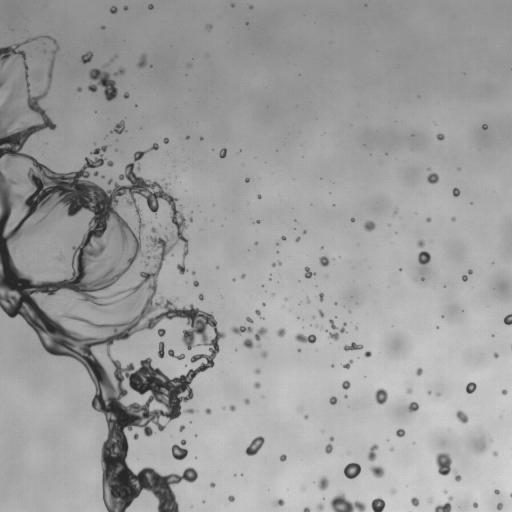droplet: (244, 436, 265, 456), (342, 462, 362, 480), (434, 495, 453, 511), (170, 444, 188, 460), (109, 120, 127, 134), (367, 464, 385, 478), (374, 388, 388, 405), (370, 497, 386, 511), (474, 437, 487, 453), (418, 250, 431, 265), (317, 475, 329, 491), (455, 409, 468, 423), (136, 53, 147, 68), (426, 172, 439, 184), (304, 266, 316, 279), (81, 51, 93, 63), (406, 401, 419, 412), (363, 220, 375, 231), (465, 382, 476, 394), (340, 359, 353, 369), (125, 61, 136, 72), (104, 64, 115, 75), (7, 72, 18, 83), (53, 163, 64, 174), (101, 181, 112, 192), (167, 185, 178, 196), (178, 205, 189, 216), (309, 260, 320, 271), (155, 273, 166, 284), (320, 300, 331, 311), (197, 301, 208, 312), (266, 325, 277, 336), (285, 327, 296, 338), (316, 331, 327, 342), (339, 333, 350, 344), (76, 364, 87, 375), (339, 369, 350, 380), (188, 378, 199, 389), (85, 384, 96, 395), (333, 386, 344, 397), (247, 388, 258, 399), (95, 411, 106, 422), (177, 412, 188, 423), (97, 429, 108, 440), (91, 448, 102, 459), (124, 456, 135, 467), (176, 459, 187, 470), (359, 459, 370, 470), (93, 461, 104, 472), (129, 462, 140, 473), (173, 463, 184, 474), (359, 466, 370, 477), (139, 488, 150, 499), (312, 488, 323, 499), (324, 488, 335, 499), (148, 495, 159, 506), (319, 255, 329, 266), (272, 498, 284, 507), (276, 327, 286, 337), (324, 443, 333, 454), (503, 313, 511, 325), (315, 292, 324, 302), (157, 328, 166, 338), (341, 380, 350, 390), (396, 427, 405, 437), (410, 496, 419, 506), (315, 502, 325, 511), (271, 259, 282, 267), (405, 385, 414, 394), (86, 60, 95, 69), (37, 99, 46, 108), (102, 150, 111, 159), (87, 174, 96, 183), (355, 218, 364, 227), (286, 231, 295, 240), (250, 322, 259, 331), (25, 326, 34, 335), (250, 345, 259, 354), (347, 349, 356, 358), (255, 358, 264, 367), (234, 399, 243, 408), (179, 400, 188, 409), (172, 416, 181, 425), (134, 425, 143, 434), (486, 442, 495, 451), (372, 457, 381, 466), (157, 467, 166, 476), (169, 483, 178, 492), (345, 493, 354, 502), (130, 497, 139, 506), (452, 187, 460, 197), (109, 5, 117, 14), (417, 239, 425, 248), (415, 367, 423, 376), (329, 396, 337, 405), (219, 148, 226, 158), (323, 505, 334, 511), (260, 350, 268, 358), (253, 381, 261, 389), (296, 405, 304, 413), (318, 308, 324, 318), (436, 133, 444, 140), (245, 316, 253, 323), (227, 494, 234, 502), (496, 502, 503, 510), (112, 0, 123, 5), (0, 93, 5, 104), (0, 155, 5, 166), (0, 285, 5, 296), (205, 24, 212, 31), (364, 350, 371, 357), (243, 398, 250, 405), (229, 404, 236, 411), (204, 408, 211, 415), (279, 454, 286, 461), (116, 6, 123, 13), (8, 53, 15, 60), (145, 57, 152, 64), (108, 73, 115, 80), (97, 84, 104, 91), (82, 87, 89, 94), (116, 89, 123, 96), (43, 126, 50, 133), (28, 133, 35, 140), (190, 134, 197, 141), (157, 140, 164, 147), (88, 154, 95, 161), (127, 155, 134, 162), (25, 159, 32, 166), (73, 164, 80, 171), (96, 165, 103, 172), (119, 167, 126, 174), (3, 172, 10, 179), (123, 179, 130, 186), (366, 214, 373, 221), (370, 228, 377, 235), (294, 229, 301, 236), (362, 229, 369, 236), (318, 249, 325, 256), (164, 253, 171, 260), (276, 253, 283, 260), (193, 273, 200, 280), (194, 286, 201, 293), (175, 302, 182, 309), (249, 312, 256, 319), (323, 313, 330, 320), (213, 314, 220, 321), (334, 320, 341, 327), (323, 321, 330, 328), (251, 326, 258, 333), (302, 329, 309, 336), (241, 331, 248, 338), (247, 332, 254, 339), (216, 338, 223, 345), (296, 340, 303, 347), (357, 348, 364, 355), (49, 353, 56, 360), (55, 354, 62, 361), (63, 355, 70, 362), (195, 371, 202, 378), (253, 374, 260, 381), (378, 382, 385, 389), (369, 388, 376, 395), (385, 388, 392, 395), (386, 392, 393, 399), (336, 395, 343, 402), (369, 395, 376, 402), (407, 395, 414, 402), (385, 396, 392, 403), (462, 408, 469, 415), (453, 417, 460, 424), (147, 421, 154, 428), (179, 431, 186, 438), (243, 439, 250, 446), (438, 446, 445, 453), (363, 447, 370, 454), (484, 448, 491, 455), (145, 461, 152, 468), (432, 463, 439, 470), (382, 469, 389, 476), (447, 471, 454, 478), (313, 475, 320, 482), (312, 482, 319, 489), (494, 494, 501, 501), (174, 495, 181, 502), (417, 496, 424, 503), (438, 498, 445, 505), (428, 504, 435, 511), (163, 137, 169, 145), (253, 368, 261, 374), (390, 487, 396, 495), (302, 506, 311, 511), (275, 506, 284, 511), (364, 506, 373, 511), (410, 506, 419, 511), (193, 280, 199, 287), (198, 293, 204, 300), (179, 425, 185, 432), (180, 438, 186, 445), (492, 450, 498, 457), (427, 497, 433, 504), (76, 86, 82, 92), (123, 92, 129, 98), (481, 124, 487, 130), (294, 236, 300, 242), (467, 269, 473, 275), (240, 273, 246, 279), (461, 275, 467, 281), (493, 352, 499, 358), (501, 389, 507, 395), (494, 489, 500, 495), (472, 502, 478, 508), (133, 432, 138, 439), (186, 63, 192, 68), (93, 170, 98, 176), (257, 193, 262, 199), (302, 229, 307, 235), (270, 292, 276, 297), (302, 414, 308, 419), (389, 445, 394, 451), (300, 485, 305, 491), (283, 297, 290, 301), (507, 388, 511, 395), (124, 507, 131, 511), (309, 507, 316, 511), (351, 507, 358, 511), (449, 507, 456, 511), (470, 507, 477, 511), (148, 4, 153, 9), (350, 217, 355, 222), (426, 217, 431, 222), (329, 436, 334, 441), (210, 482, 215, 487), (143, 2, 148, 7), (108, 12, 113, 17), (112, 12, 117, 17), (30, 32, 35, 37), (51, 33, 56, 38), (16, 38, 21, 43), (56, 39, 61, 44), (56, 49, 61, 54), (108, 52, 113, 57), (17, 55, 22, 60), (135, 57, 140, 62), (53, 59, 58, 64), (78, 61, 83, 66), (144, 63, 149, 68), (19, 65, 24, 70), (99, 67, 104, 72), (123, 71, 128, 76), (51, 72, 56, 77), (113, 83, 118, 88), (72, 84, 77, 89), (6, 87, 11, 92), (86, 89, 91, 94), (46, 91, 51, 96), (111, 97, 116, 102), (44, 110, 49, 115), (51, 118, 56, 123), (114, 118, 119, 123), (110, 123, 115, 128), (54, 126, 59, 131), (438, 128, 443, 133), (443, 135, 448, 140), (147, 142, 152, 147), (95, 143, 100, 148), (220, 143, 225, 148), (89, 146, 94, 151), (105, 146, 110, 151), (138, 146, 143, 151), (19, 148, 24, 153), (32, 153, 37, 158), (138, 157, 143, 162), (37, 158, 42, 163), (102, 160, 107, 165), (85, 166, 90, 171), (132, 168, 137, 173), (1, 169, 6, 174), (425, 170, 430, 175), (135, 172, 140, 177), (104, 175, 109, 180), (422, 175, 427, 180), (437, 175, 442, 180), (164, 177, 169, 182), (158, 180, 163, 185), (427, 182, 432, 187), (457, 185, 462, 190), (447, 189, 452, 194), (171, 193, 176, 198), (174, 200, 179, 205), (174, 205, 179, 210), (388, 209, 393, 214), (396, 210, 401, 215), (450, 211, 455, 216), (183, 214, 188, 219), (430, 217, 435, 222), (421, 218, 426, 223), (178, 239, 183, 244), (412, 240, 417, 245), (274, 245, 279, 250), (421, 246, 426, 251), (184, 254, 189, 259), (326, 254, 331, 259), (413, 254, 418, 259), (429, 254, 434, 259), (161, 259, 166, 264), (328, 259, 333, 264), (266, 261, 271, 266), (425, 261, 430, 266), (160, 264, 165, 269), (274, 264, 279, 269), (322, 265, 327, 270), (270, 266, 275, 271), (309, 267, 314, 272), (471, 267, 476, 272), (158, 269, 163, 274), (235, 274, 240, 279), (300, 275, 305, 280), (263, 279, 268, 284), (188, 281, 193, 286), (155, 286, 160, 291), (314, 290, 319, 295), (301, 297, 306, 302), (280, 299, 285, 304), (258, 306, 263, 311), (260, 311, 265, 316), (314, 311, 319, 316), (15, 313, 20, 318), (500, 313, 505, 318), (310, 319, 315, 324), (245, 321, 250, 326), (235, 323, 240, 328), (274, 325, 279, 330), (343, 325, 348, 330), (216, 326, 221, 331), (330, 328, 335, 333), (338, 332, 343, 337), (259, 334, 264, 339), (329, 337, 334, 342), (35, 338, 40, 343), (251, 338, 256, 343), (354, 339, 359, 344), (304, 340, 309, 345), (312, 341, 317, 346), (38, 344, 43, 349), (242, 345, 247, 350), (496, 349, 501, 354), (370, 350, 375, 355), (488, 352, 493, 357), (266, 353, 271, 358), (257, 355, 262, 360), (367, 355, 372, 360), (212, 357, 217, 362), (251, 364, 256, 369), (412, 366, 417, 371), (205, 367, 210, 372), (421, 369, 426, 374), (343, 375, 348, 380), (338, 378, 343, 383), (258, 379, 263, 384), (249, 384, 254, 389), (259, 384, 264, 389), (337, 384, 342, 389), (382, 385, 387, 390), (425, 385, 430, 390), (401, 386, 406, 391), (411, 386, 416, 391), (254, 387, 259, 392), (461, 387, 466, 392), (191, 388, 196, 393), (343, 388, 348, 393), (471, 390, 476, 395), (430, 391, 435, 396), (467, 392, 472, 397), (242, 393, 247, 398), (326, 393, 331, 398), (499, 393, 504, 398), (503, 393, 508, 398), (249, 399, 254, 404), (86, 400, 91, 405), (231, 400, 236, 405), (335, 400, 340, 405), (405, 400, 410, 405), (417, 401, 422, 406), (206, 403, 211, 408), (378, 403, 383, 408), (225, 407, 230, 412), (210, 408, 215, 413), (200, 409, 205, 414), (302, 409, 307, 414), (230, 410, 235, 415), (411, 410, 416, 415), (204, 413, 209, 418), (298, 414, 303, 419), (399, 424, 404, 429), (403, 427, 408, 432), (391, 428, 396, 433), (253, 432, 258, 437), (260, 432, 265, 437), (394, 435, 399, 440), (400, 435, 405, 440), (325, 439, 330, 444), (330, 440, 335, 445), (375, 440, 380, 445), (368, 441, 373, 446), (386, 441, 391, 446), (261, 442, 266, 447), (178, 443, 183, 448), (320, 446, 325, 451), (494, 446, 499, 451), (256, 449, 261, 454), (280, 449, 285, 454), (277, 450, 282, 455), (167, 451, 172, 456), (497, 451, 502, 456), (248, 454, 253, 459), (489, 454, 494, 459), (275, 457, 280, 462), (174, 458, 179, 463), (347, 458, 352, 463), (352, 458, 357, 463), (341, 462, 346, 467), (449, 463, 454, 468), (359, 465, 364, 470), (194, 467, 199, 472), (457, 470, 462, 475), (177, 471, 182, 476), (196, 472, 201, 477), (340, 472, 345, 477), (357, 472, 362, 477), (438, 473, 443, 478), (460, 474, 465, 479), (343, 476, 348, 481), (194, 477, 199, 482), (180, 478, 185, 483), (314, 480, 319, 485), (454, 480, 459, 485), (205, 481, 210, 486), (97, 489, 102, 494), (446, 490, 451, 495), (231, 491, 236, 496), (276, 494, 281, 499), (371, 494, 376, 499), (382, 496, 387, 501), (223, 497, 228, 502), (282, 497, 287, 502), (228, 501, 233, 506), (407, 501, 412, 506), (492, 501, 497, 506), (276, 504, 281, 509), (177, 505, 182, 510), (191, 269, 195, 275), (435, 392, 441, 396), (146, 0, 153, 3), (247, 0, 254, 3), (0, 41, 3, 48), (0, 207, 3, 214), (230, 3, 235, 7), (123, 5, 127, 10), (248, 5, 253, 9), (100, 25, 105, 29), (185, 135, 190, 139), (245, 177, 249, 182), (451, 216, 455, 221), (420, 277, 425, 281), (280, 305, 285, 309), (354, 325, 358, 330), (427, 390, 431, 395), (319, 429, 324, 433), (443, 489, 447, 494), (298, 507, 303, 511), (254, 241, 258, 245), (215, 265, 219, 269), (297, 348, 301, 352), (330, 363, 334, 367), (344, 394, 348, 398), (426, 167, 431, 170), (100, 175, 105, 178), (160, 178, 165, 181), (262, 302, 265, 307), (508, 323, 511, 328), (102, 508, 107, 511), (381, 508, 386, 511), (493, 508, 498, 511), (499, 508, 504, 511), (245, 21, 248, 25), (43, 49, 46, 53), (417, 94, 420, 98), (200, 136, 203, 140), (114, 148, 118, 151), (384, 152, 388, 155), (387, 223, 391, 226), (398, 268, 402, 271), (268, 278, 272, 281), (334, 301, 337, 305), (312, 315, 315, 319), (296, 316, 300, 319), (221, 406, 225, 409), (386, 438, 390, 441), (230, 0, 235, 2), (0, 307, 2, 312), (149, 64, 152, 67), (134, 104, 137, 107), (94, 110, 97, 113), (115, 138, 118, 141), (93, 142, 96, 145), (457, 167, 460, 170), (470, 201, 473, 204), (190, 210, 193, 213), (158, 223, 161, 226), (320, 246, 323, 249), (276, 250, 279, 253), (269, 273, 272, 276), (325, 274, 328, 277), (232, 278, 235, 281), (261, 284, 264, 287), (314, 284, 317, 287), (348, 310, 351, 313), (334, 315, 337, 318), (441, 315, 444, 318), (309, 323, 312, 326), (436, 326, 439, 329), (491, 334, 494, 337), (261, 395, 264, 398), (194, 434, 197, 437), (412, 441, 415, 444), (194, 456, 197, 459), (233, 473, 236, 476), (240, 473, 243, 476), (322, 497, 325, 500), (202, 500, 205, 503), (190, 505, 193, 508), (124, 2, 127, 5), (152, 3, 155, 6), (245, 4, 248, 7), (127, 6, 130, 9), (229, 6, 232, 9), (232, 6, 235, 9), (150, 8, 153, 11), (247, 8, 250, 11), (124, 9, 127, 12), (107, 10, 110, 13), (245, 18, 248, 21), (248, 20, 251, 23), (242, 21, 245, 24), (101, 22, 104, 25), (247, 23, 250, 26), (104, 27, 107, 30), (100, 28, 103, 31), (46, 32, 49, 35), (82, 51, 85, 54), (92, 52, 95, 55), (78, 57, 81, 60), (1, 84, 4, 87), (77, 91, 80, 94), (124, 97, 127, 100), (136, 102, 139, 105), (131, 103, 134, 106), (135, 106, 138, 109), (121, 116, 124, 119), (480, 121, 483, 124), (487, 125, 490, 128), (124, 126, 127, 129), (479, 127, 482, 130), (484, 128, 487, 131), (121, 130, 124, 133), (186, 132, 189, 135), (201, 134, 204, 137), (161, 135, 164, 138), (182, 135, 185, 138), (167, 136, 170, 139), (196, 136, 199, 139), (186, 138, 189, 141), (200, 139, 203, 142), (439, 139, 442, 142), (167, 141, 170, 144), (117, 147, 120, 150), (151, 148, 154, 151), (236, 148, 239, 151), (241, 148, 244, 151), (116, 150, 119, 153), (225, 151, 228, 154), (239, 151, 242, 154), (216, 154, 219, 157), (383, 154, 386, 157), (221, 157, 224, 160), (112, 163, 115, 166), (246, 174, 249, 177), (316, 176, 319, 179), (12, 177, 15, 180), (249, 178, 252, 181), (242, 180, 245, 183), (247, 181, 250, 184), (328, 188, 331, 191), (459, 191, 462, 194), (260, 193, 263, 196), (254, 195, 257, 198), (456, 195, 459, 198), (257, 198, 260, 201), (468, 198, 471, 201), (332, 200, 335, 203), (334, 204, 337, 207), (469, 204, 472, 207), (351, 214, 354, 217), (426, 214, 429, 217), (191, 216, 194, 219), (256, 216, 259, 219), (291, 216, 294, 219), (455, 216, 458, 219), (253, 218, 256, 221), (296, 218, 299, 221), (347, 218, 350, 221), (354, 218, 357, 221), (448, 218, 451, 221), (293, 221, 296, 224), (351, 221, 354, 224), (426, 221, 429, 224), (254, 222, 257, 225), (303, 226, 306, 229), (306, 230, 309, 233), (283, 233, 286, 236), (278, 234, 281, 237), (294, 235, 297, 238), (285, 236, 288, 239), (255, 238, 258, 241), (281, 239, 284, 242), (298, 239, 301, 242), (187, 240, 190, 243), (273, 240, 276, 243), (256, 243, 259, 246), (253, 244, 256, 247), (317, 244, 320, 247), (323, 245, 326, 248), (187, 247, 190, 250), (187, 250, 190, 253), (279, 258, 282, 261), (274, 260, 277, 263), (281, 261, 284, 264), (215, 262, 218, 265), (304, 263, 307, 266), (398, 264, 401, 267), (184, 265, 187, 268), (212, 265, 215, 268), (218, 265, 221, 268), (468, 266, 471, 269), (401, 268, 404, 271), (396, 269, 399, 272), (242, 270, 245, 273), (271, 272, 274, 275), (465, 272, 468, 275), (267, 274, 270, 277), (311, 274, 314, 277), (422, 274, 425, 277), (230, 275, 233, 278), (244, 275, 247, 278), (270, 275, 273, 278), (307, 277, 310, 280), (459, 278, 462, 281), (229, 279, 232, 282), (423, 279, 426, 282), (268, 280, 271, 283), (420, 280, 423, 283), (198, 281, 201, 284), (260, 281, 263, 284), (440, 283, 443, 286), (263, 285, 266, 288), (442, 287, 445, 290), (320, 289, 323, 292), (316, 295, 319, 298), (308, 296, 311, 299), (285, 300, 288, 303), (296, 300, 299, 303), (331, 300, 334, 303), (264, 301, 267, 304), (336, 302, 339, 305), (331, 303, 334, 306), (252, 307, 255, 310), (463, 308, 466, 311), (321, 309, 324, 312), (460, 311, 463, 314), (442, 312, 445, 315), (505, 312, 508, 315), (293, 314, 296, 317), (330, 316, 333, 319), (441, 317, 444, 320), (298, 318, 301, 321), (343, 319, 346, 322), (346, 321, 349, 324), (356, 323, 359, 326), (438, 325, 441, 328), (433, 326, 436, 329), (436, 328, 439, 331), (491, 330, 494, 333), (488, 332, 491, 335), (314, 333, 317, 336), (490, 336, 493, 339), (507, 345, 510, 348), (340, 346, 343, 349), (231, 347, 234, 350), (342, 349, 345, 352), (296, 351, 299, 354), (332, 361, 335, 364), (328, 362, 331, 365), (349, 363, 352, 366), (333, 364, 336, 367), (259, 367, 262, 370), (330, 367, 333, 370), (343, 367, 346, 370), (470, 379, 473, 382), (475, 386, 478, 389), (502, 386, 505, 389), (498, 390, 501, 393), (424, 391, 427, 394), (331, 393, 334, 396), (347, 395, 350, 398), (343, 397, 346, 400), (327, 402, 330, 405), (307, 415, 310, 418), (191, 419, 194, 422), (163, 427, 166, 430), (182, 428, 185, 431), (196, 434, 199, 437), (332, 434, 335, 437), (331, 448, 334, 451), (196, 454, 199, 457), (285, 456, 288, 459), (232, 470, 235, 473), (236, 472, 239, 475), (242, 472, 245, 475), (240, 475, 243, 478), (232, 476, 235, 479), (213, 480, 216, 483), (214, 484, 217, 487), (210, 486, 213, 489), (495, 486, 498, 489), (491, 488, 494, 491), (507, 491, 510, 494), (492, 492, 495, 495), (99, 494, 102, 497), (507, 495, 510, 498), (203, 497, 206, 500), (233, 498, 236, 501), (198, 499, 201, 502), (204, 500, 207, 503), (476, 500, 479, 503), (469, 502, 472, 505), (477, 504, 480, 507), (410, 134, 414, 136), (364, 4, 367, 6), (211, 148, 214, 150), (212, 203, 214, 206), (332, 204, 335, 206), (395, 231, 397, 234), (332, 258, 335, 260), (491, 262, 494, 264), (297, 280, 300, 282), (443, 285, 446, 287), (350, 296, 353, 298), (350, 321, 352, 324), (301, 325, 303, 328), (235, 348, 237, 351), (356, 356, 359, 358), (185, 364, 187, 367), (189, 421, 192, 423), (463, 72, 465, 74), (369, 153, 371, 155), (320, 177, 322, 179), (329, 192, 331, 194), (310, 203, 312, 205), (221, 224, 223, 226), (165, 227, 167, 229), (338, 256, 340, 258), (185, 281, 187, 283), (312, 481, 314, 483), (405, 485, 407, 487), (185, 74, 187, 75), (175, 176, 176, 178), (294, 228, 296, 229), (277, 281, 278, 283), (265, 290, 266, 292), (462, 309, 463, 311), (364, 376, 365, 377)
ligament: (435, 452, 461, 481), (329, 491, 366, 511), (242, 326, 267, 349), (230, 323, 253, 335), (366, 443, 378, 463), (294, 333, 317, 343), (166, 349, 185, 360), (102, 54, 118, 67), (343, 342, 363, 351), (157, 340, 166, 358), (0, 72, 8, 89), (275, 235, 286, 247), (254, 309, 265, 319), (392, 207, 398, 217), (252, 219, 261, 224), (306, 295, 310, 303), (237, 149, 242, 153), (294, 219, 298, 224), (104, 134, 108, 138), (147, 221, 152, 224), (298, 301, 301, 305), (509, 492, 511, 498), (510, 343, 511, 349), (458, 505, 460, 508)
